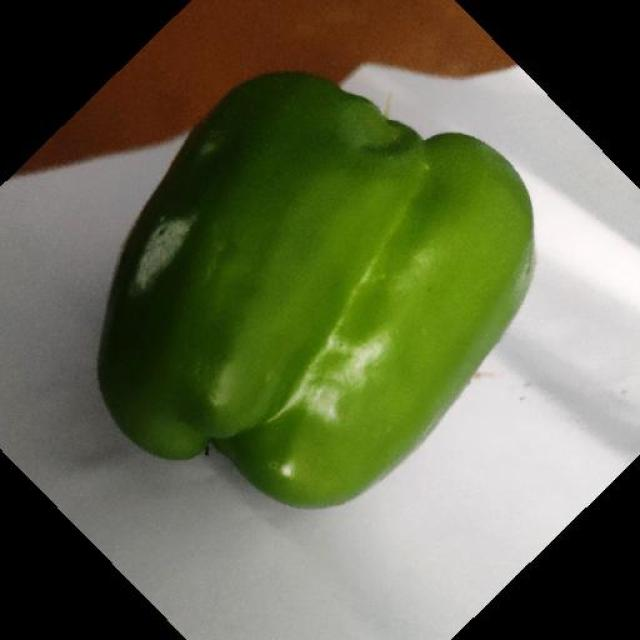Stale_Capsicum: (123, 154, 240, 400)
